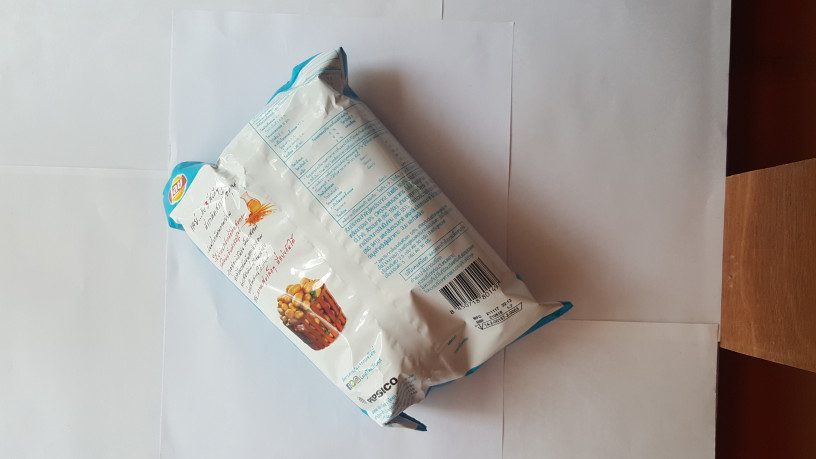lays-onion: (157, 50, 575, 436)
